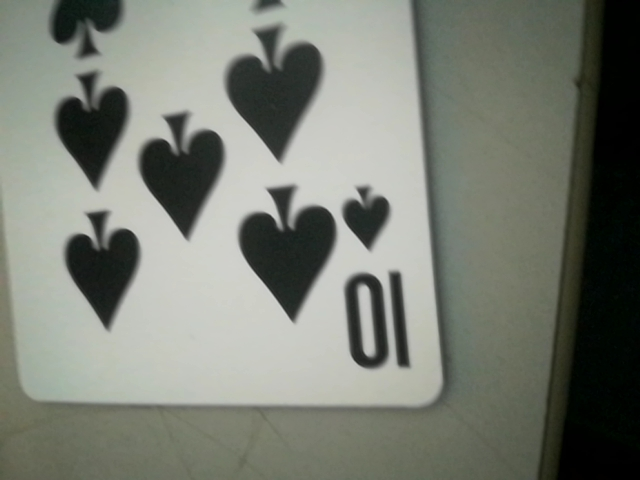ht 10: (331, 182, 415, 384)
